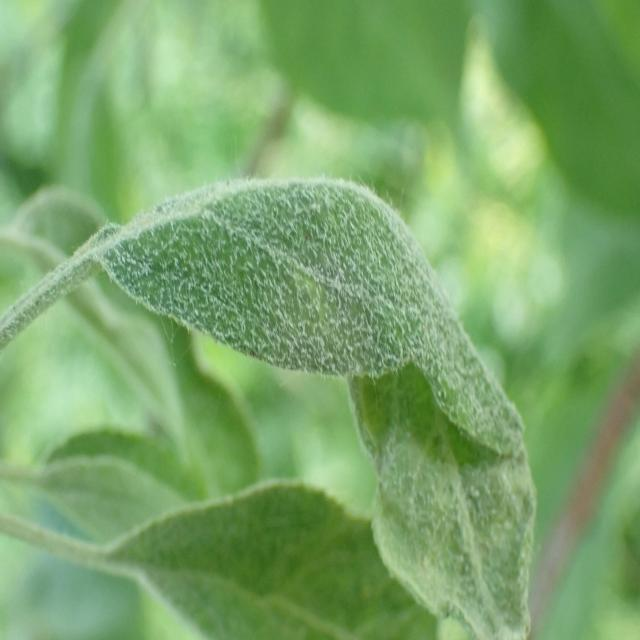Powdery_mildew: (89, 174, 557, 634), (59, 484, 436, 640)
